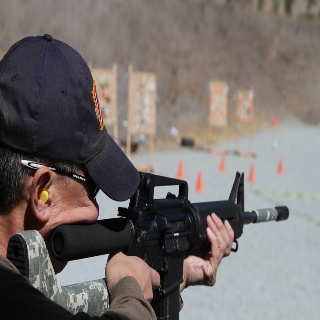rifle: (49, 169, 293, 320)
